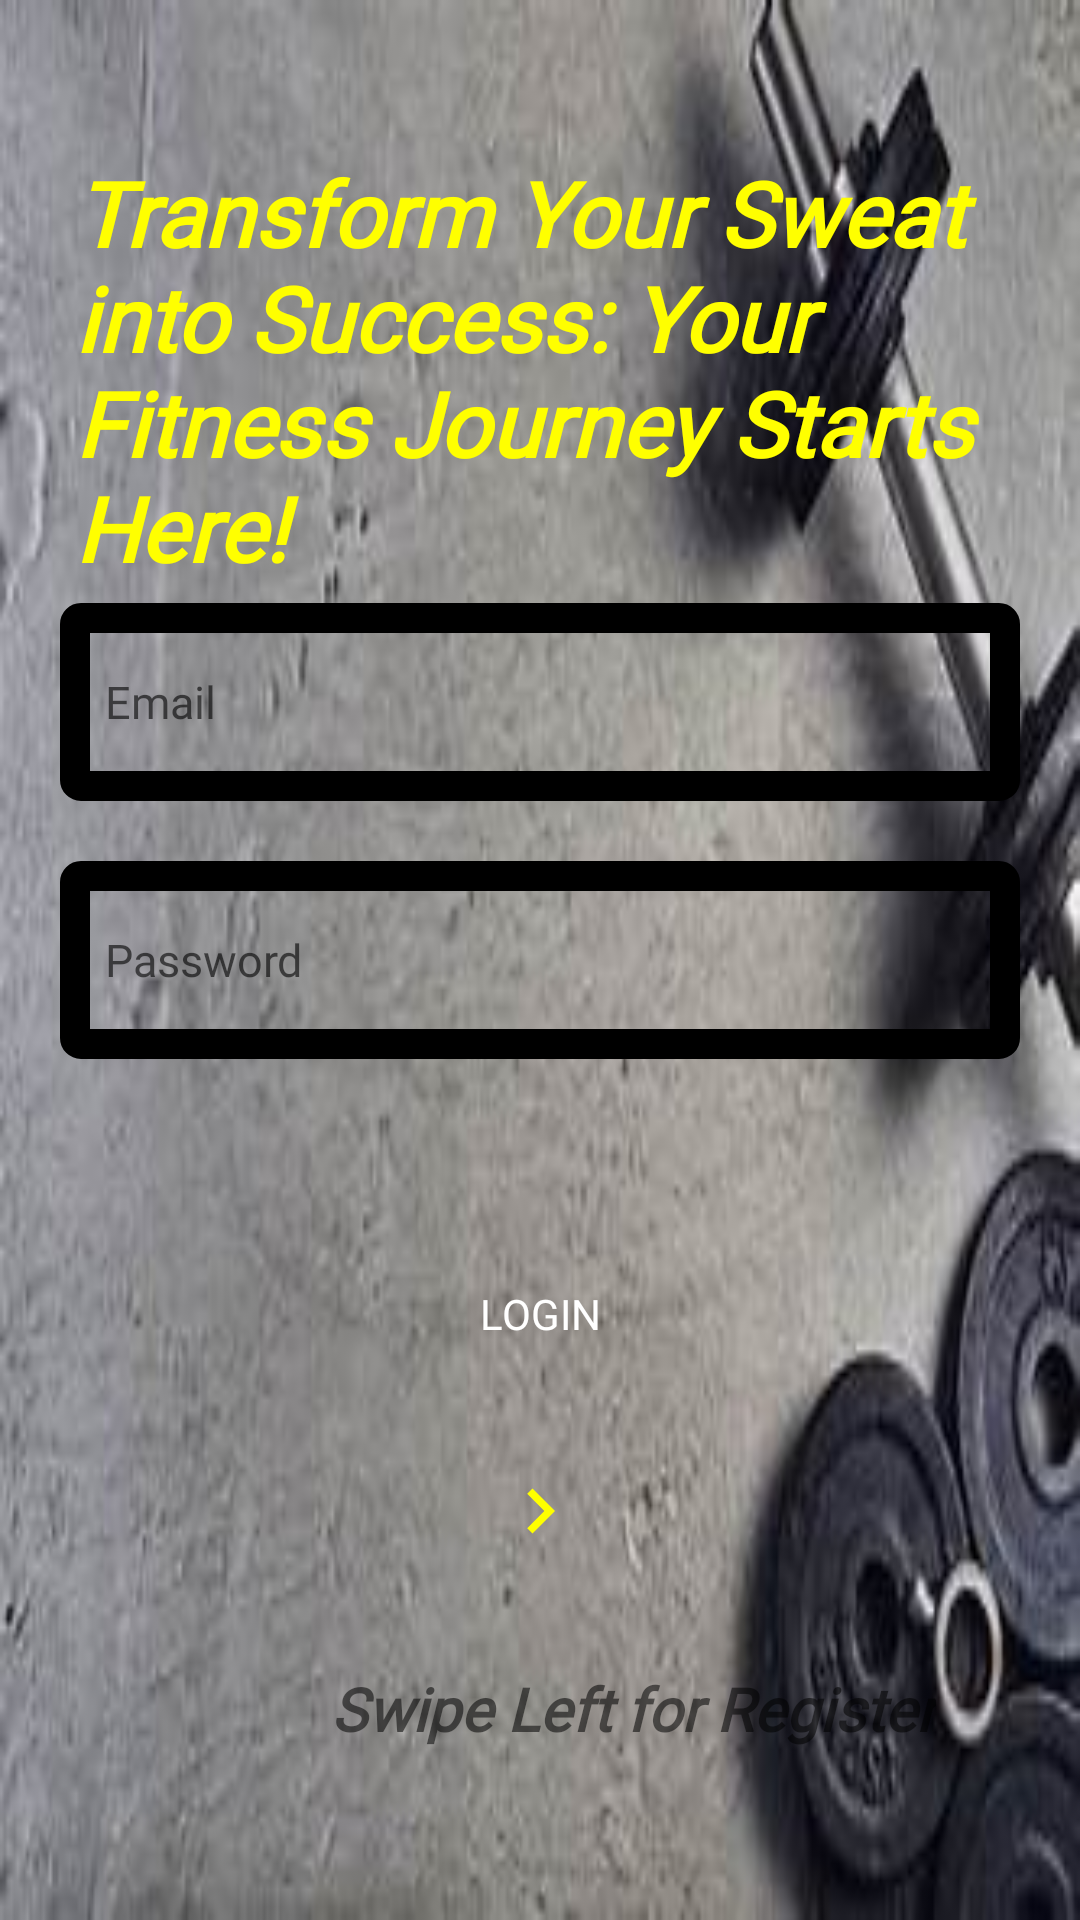

Locate icon controls on the screen. Image size 1080px x 1920px, boxes as (x1, y1, x2, y2).
arrow right: (520, 1488, 555, 1541)
